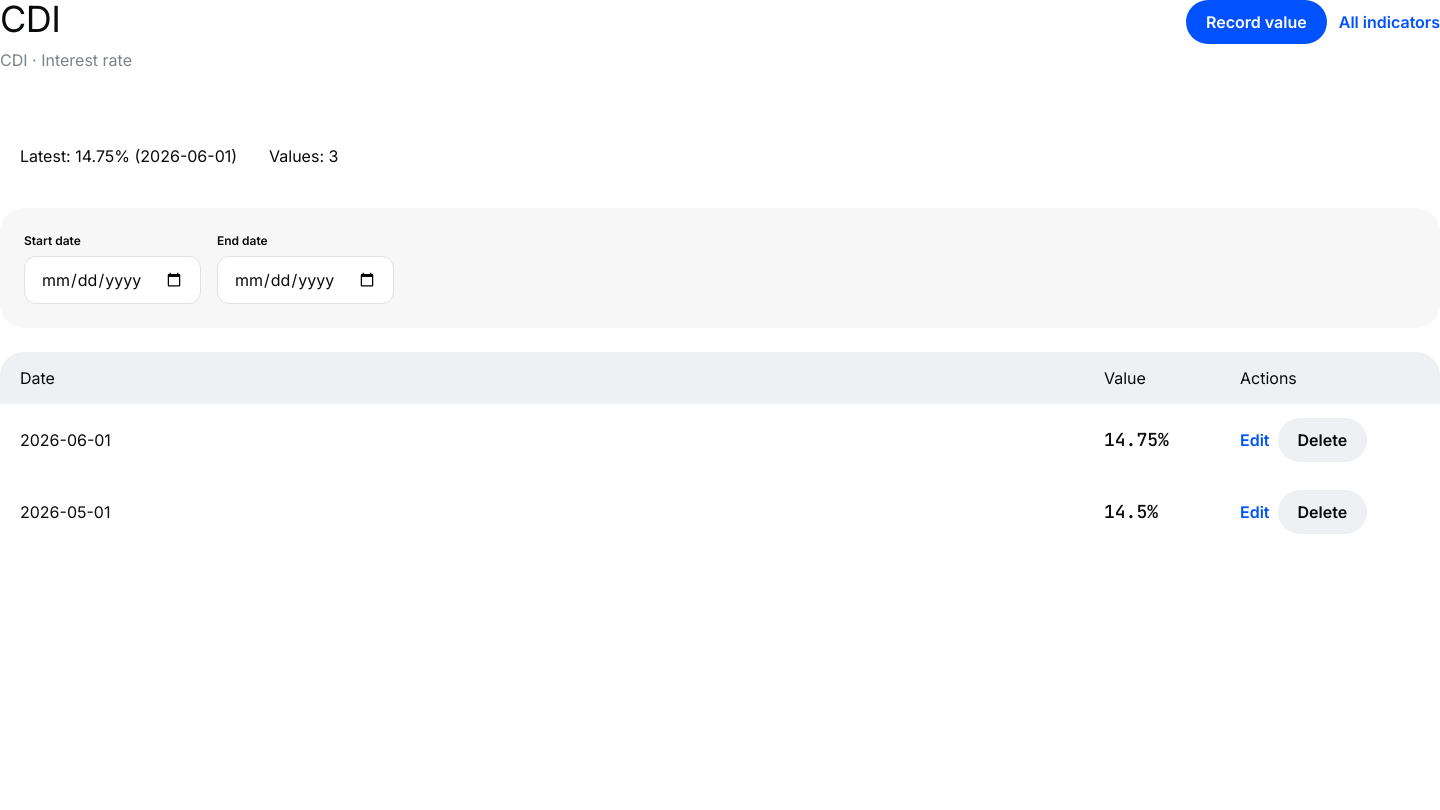
Test: MarketIndicatorDetail page › opens delete confirm dialog for a value row
Click the 1st button "Delete": [1322, 440] box [1278, 418, 1367, 462]
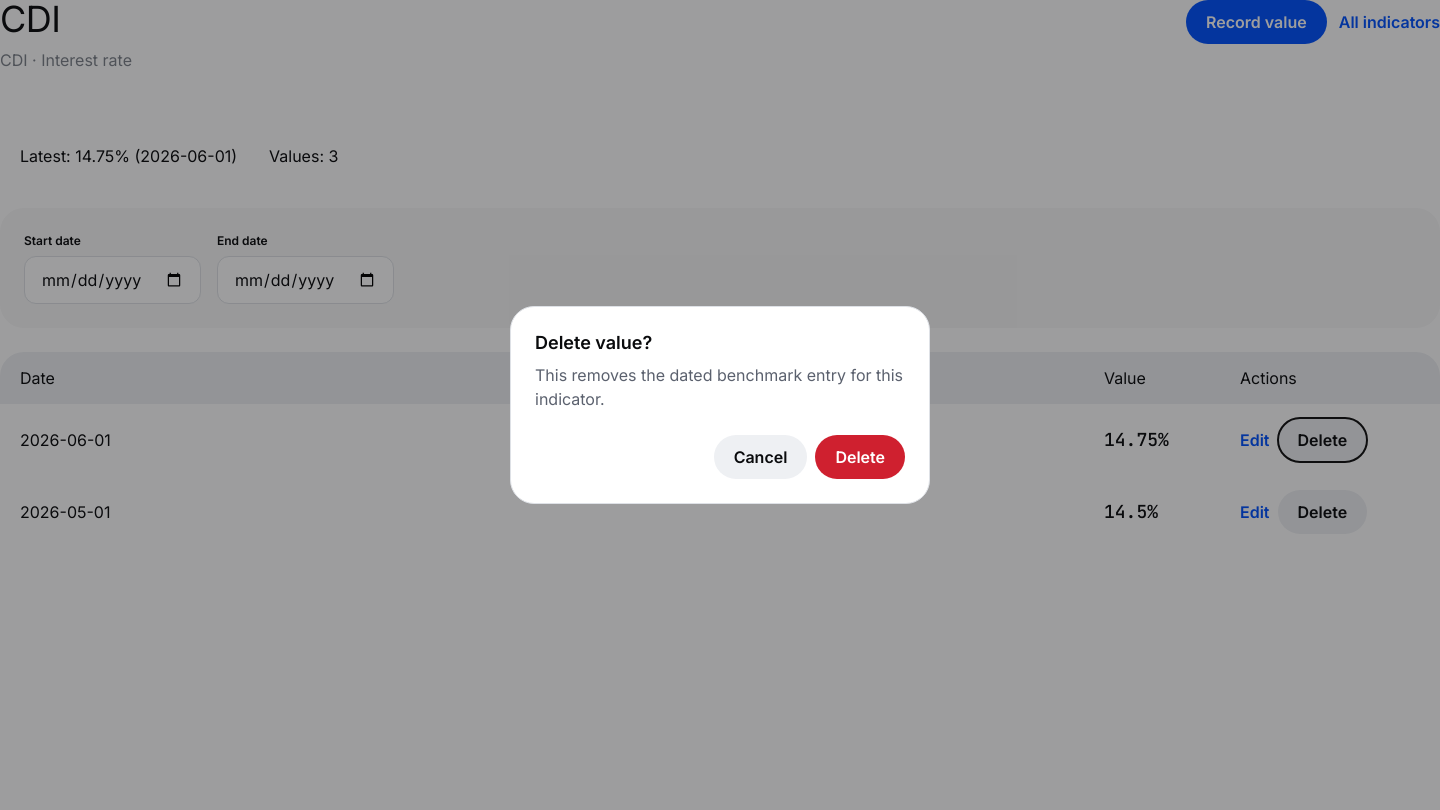
expect the dialog "Delete value?" is shown: met, box [510, 306, 930, 504]
